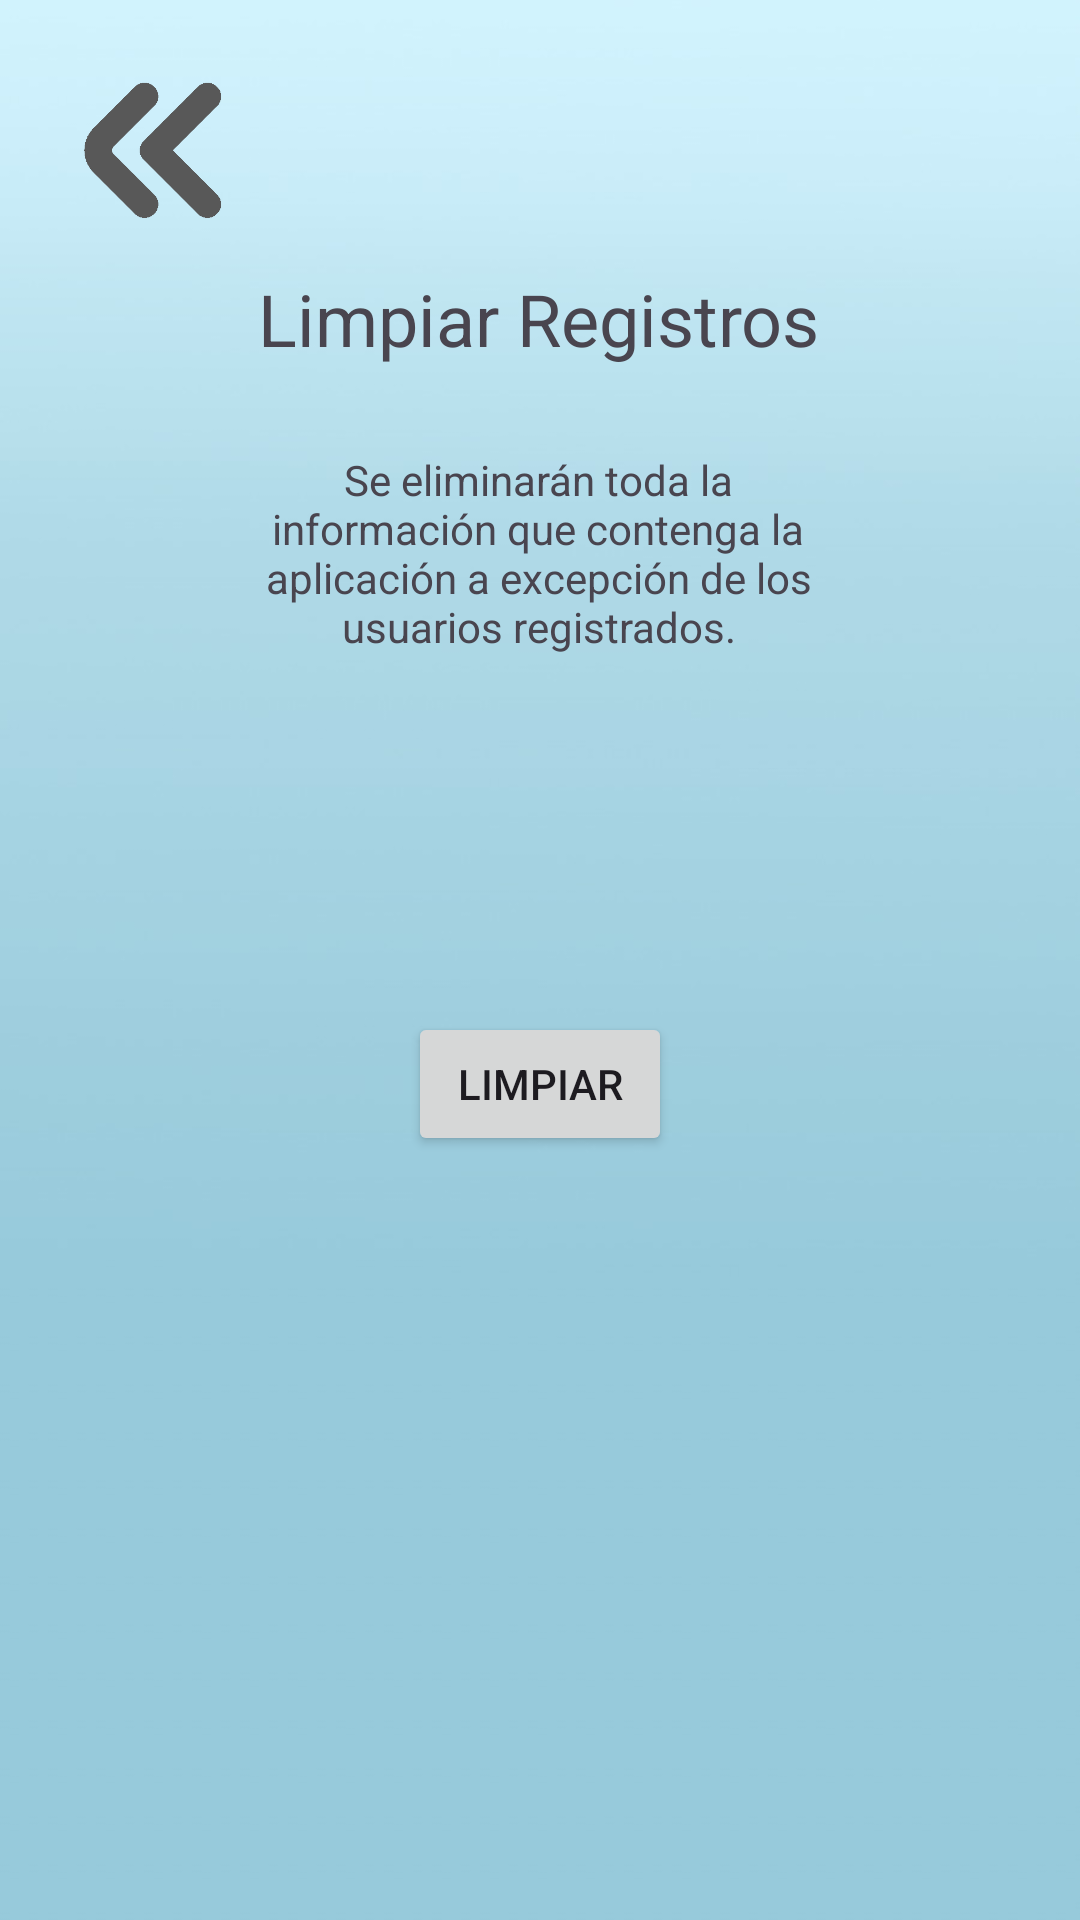

Screen size 1080x1920. Icon name, then its box in pixels as [x1=x1, y1=y1, x2=x2, y2=y2]:
regresar: [x1=84, y1=83, x2=221, y2=218]
